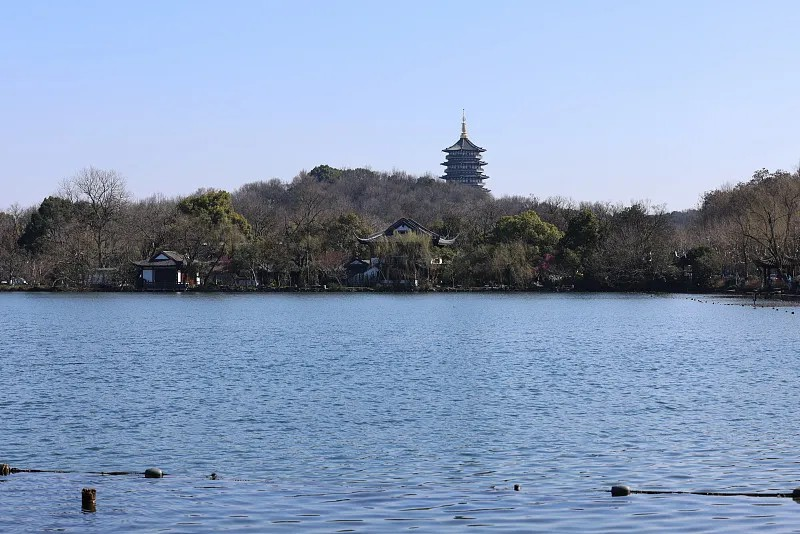Leifeng: (438, 107, 491, 195)
